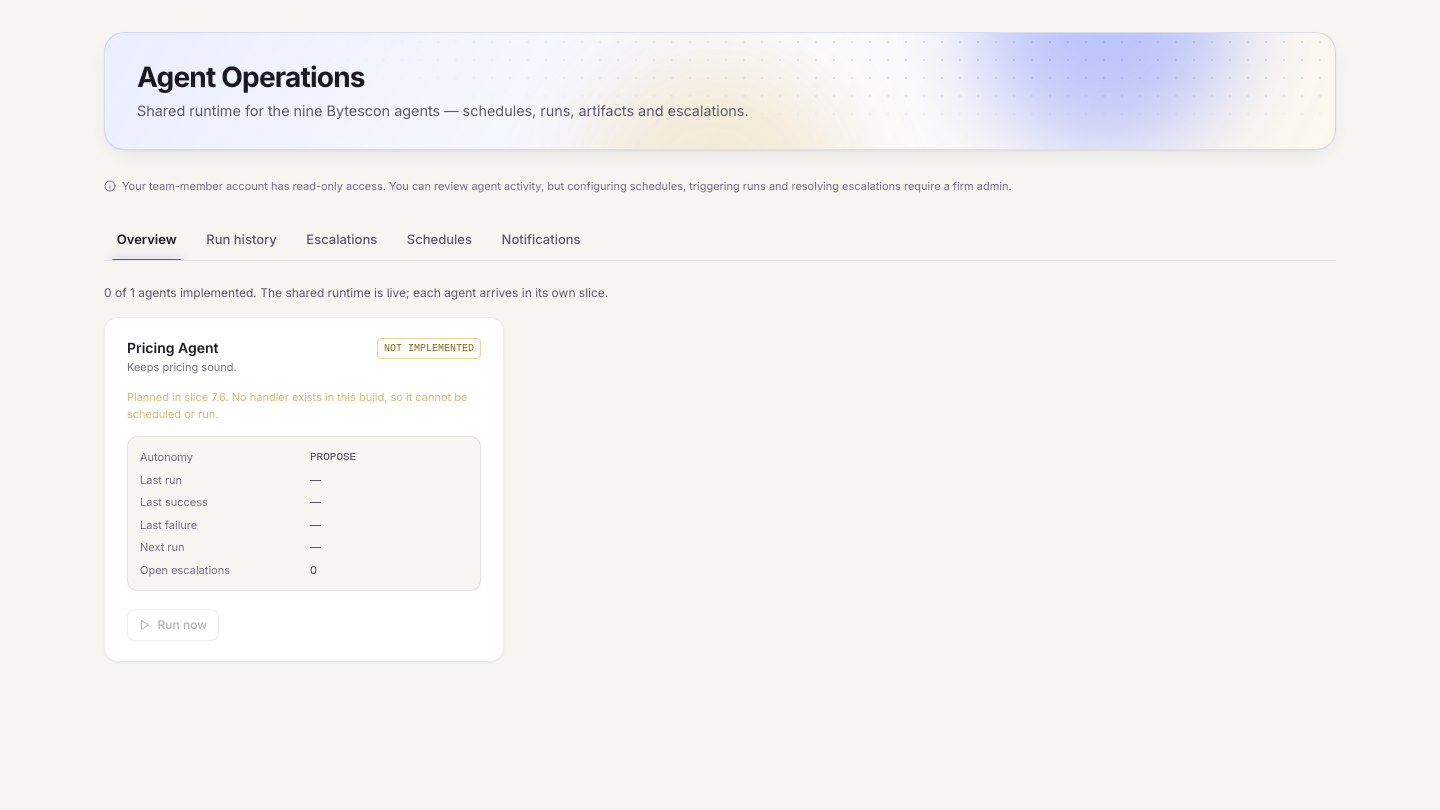
Test case: Agents — escalations › disables escalation actions for a read-only account
Expected: the heading "Pricing Agent" is shown, [127, 339, 218, 356]
Click the tab "Escalations". click: [342, 240]
box: [294, 220, 390, 260]
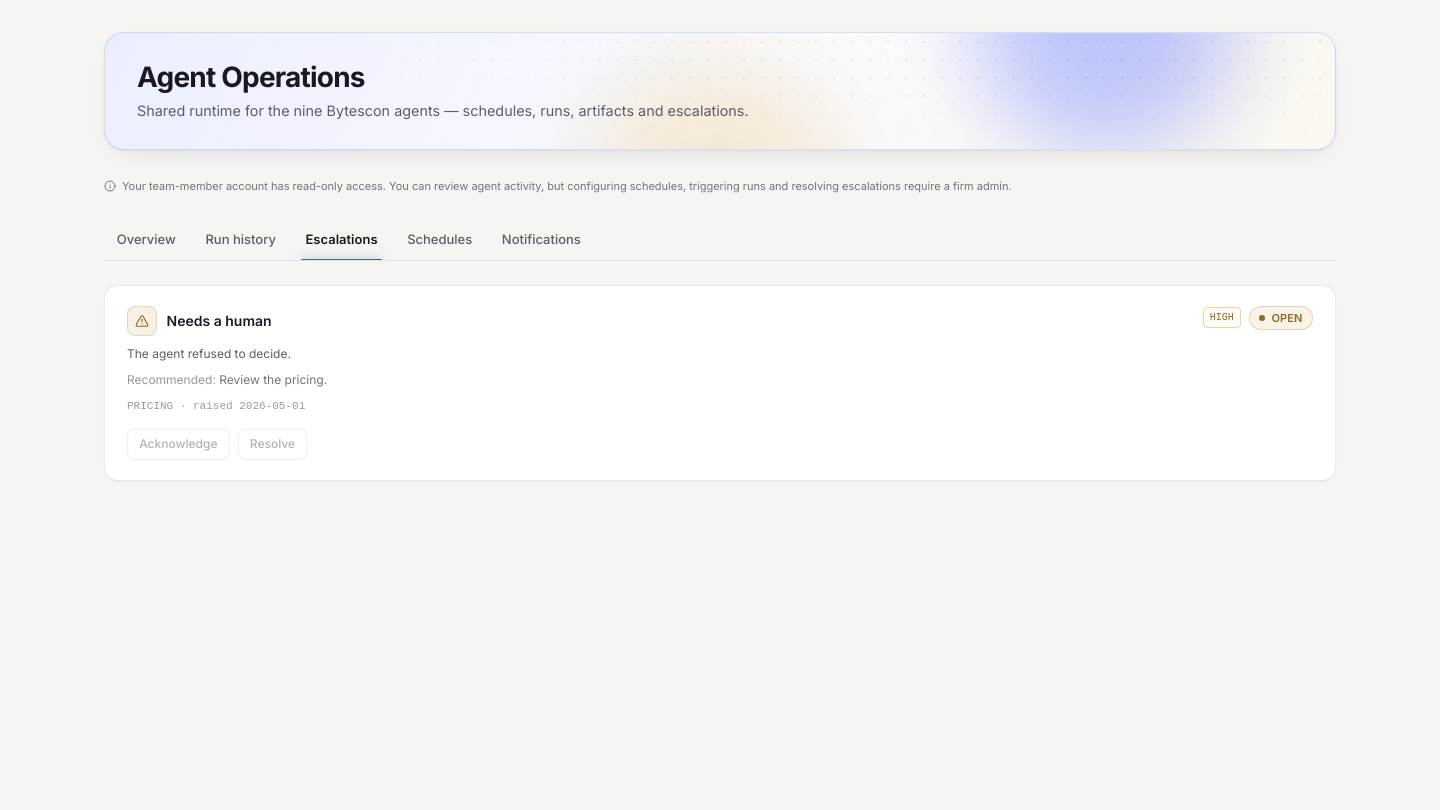
Now the heading "Needs a human" is shown, box [167, 311, 272, 331]
Now the button "Acknowledge" is disabled, box [127, 428, 230, 460]
Now the button "Resolve" is disabled, box [238, 428, 307, 460]
